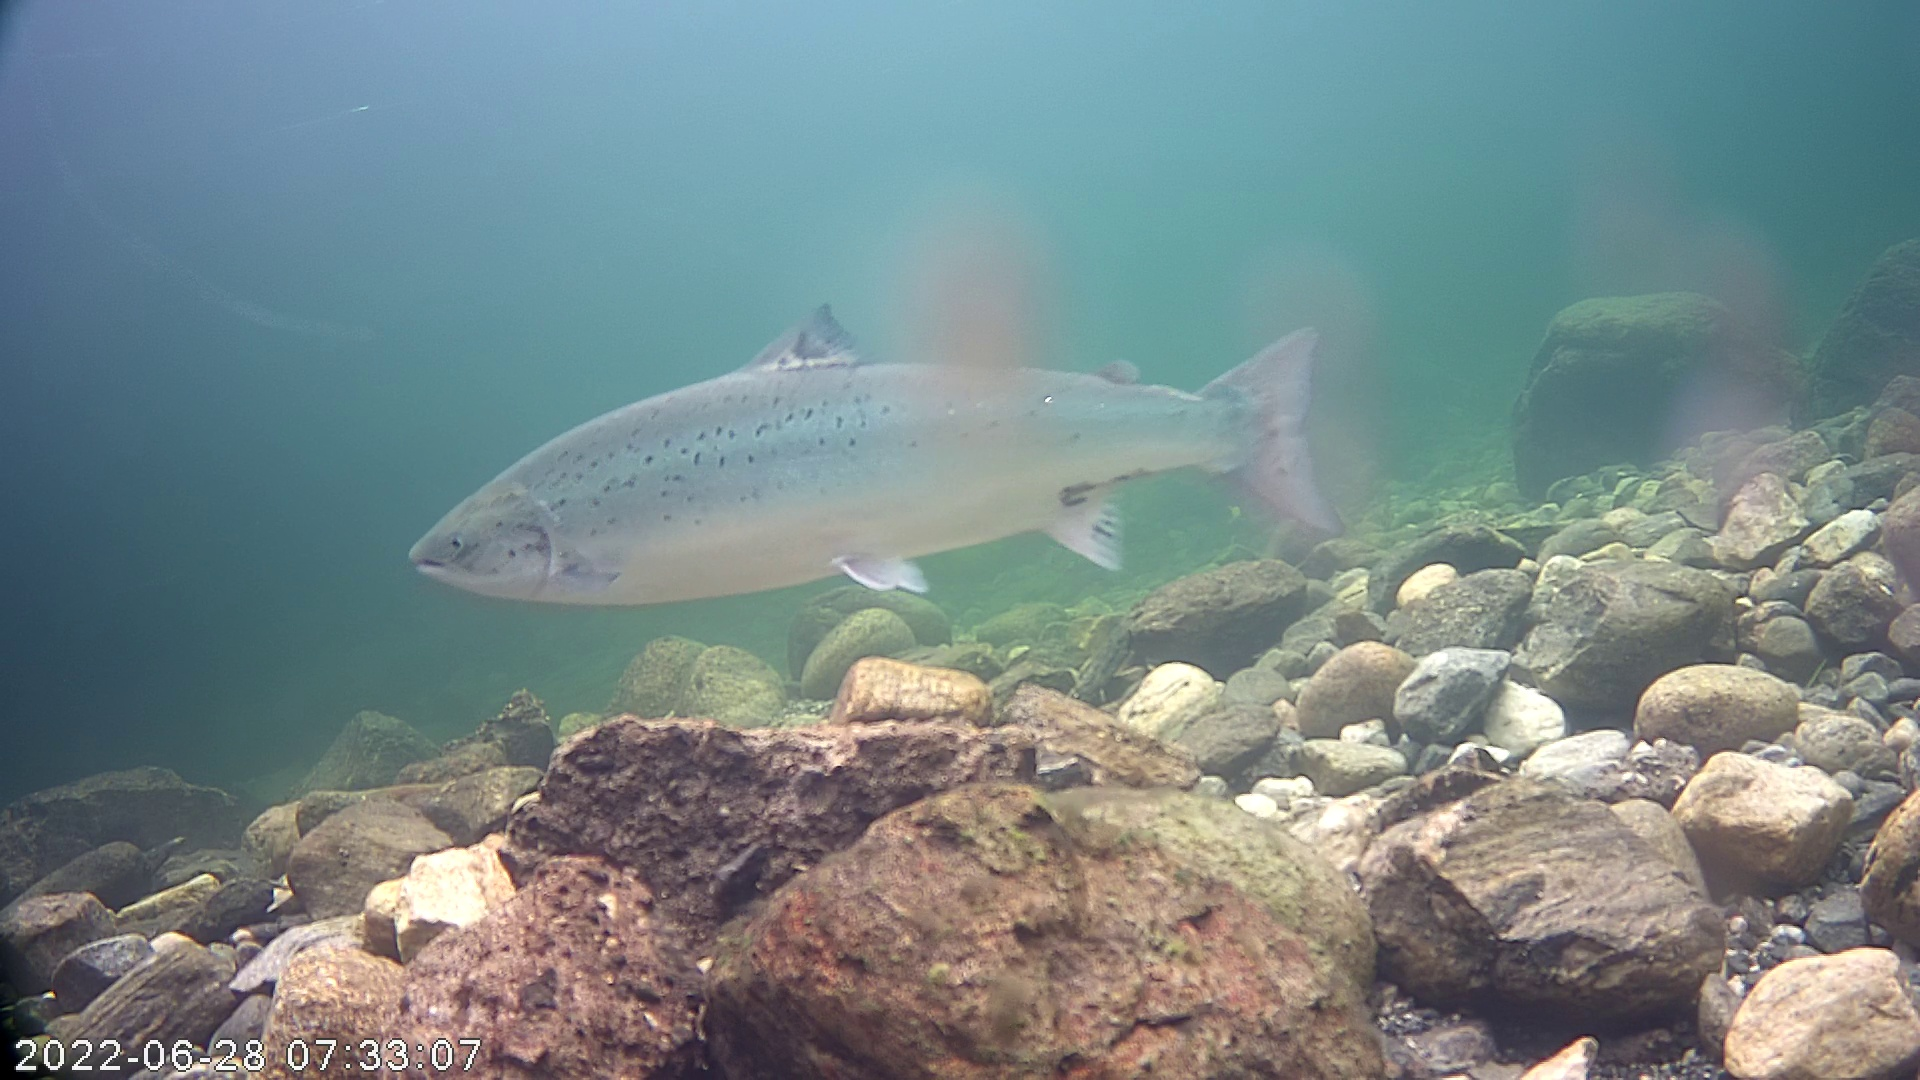salmon: (404, 228, 1366, 633)
